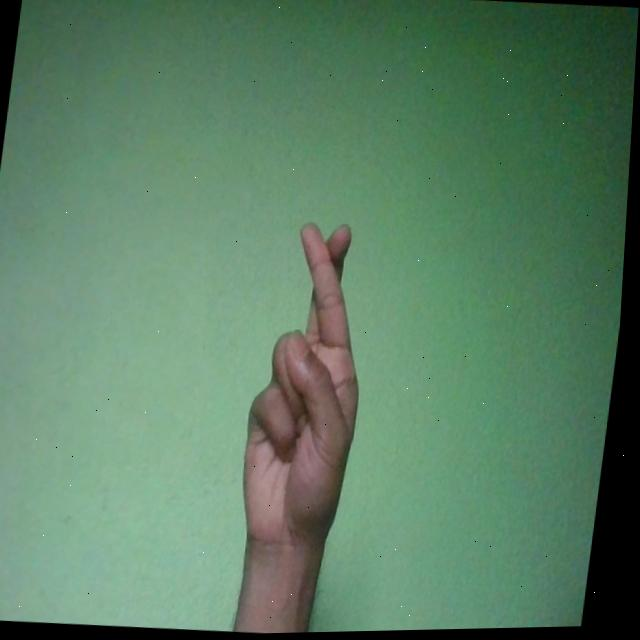Good Luck: (237, 216, 384, 561)
